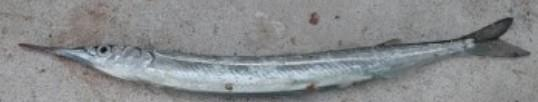fish: (20, 18, 531, 100)
